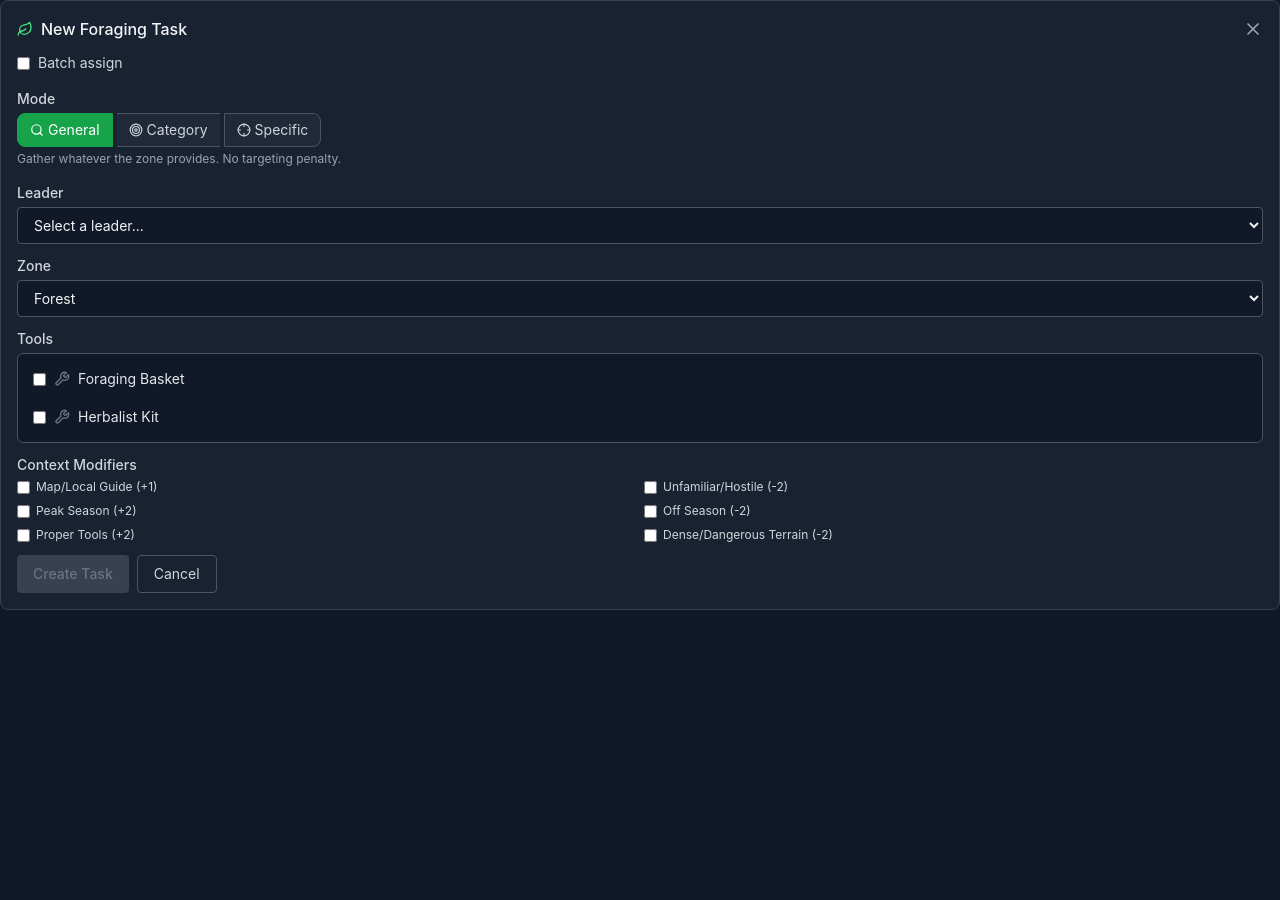
Test: ForagingTaskForm › mode switching › resets target fields when switching modes
Note: Switch to category, select a category
Click the button with test id "mode-category" at (168, 130), box [117,113,220,147]
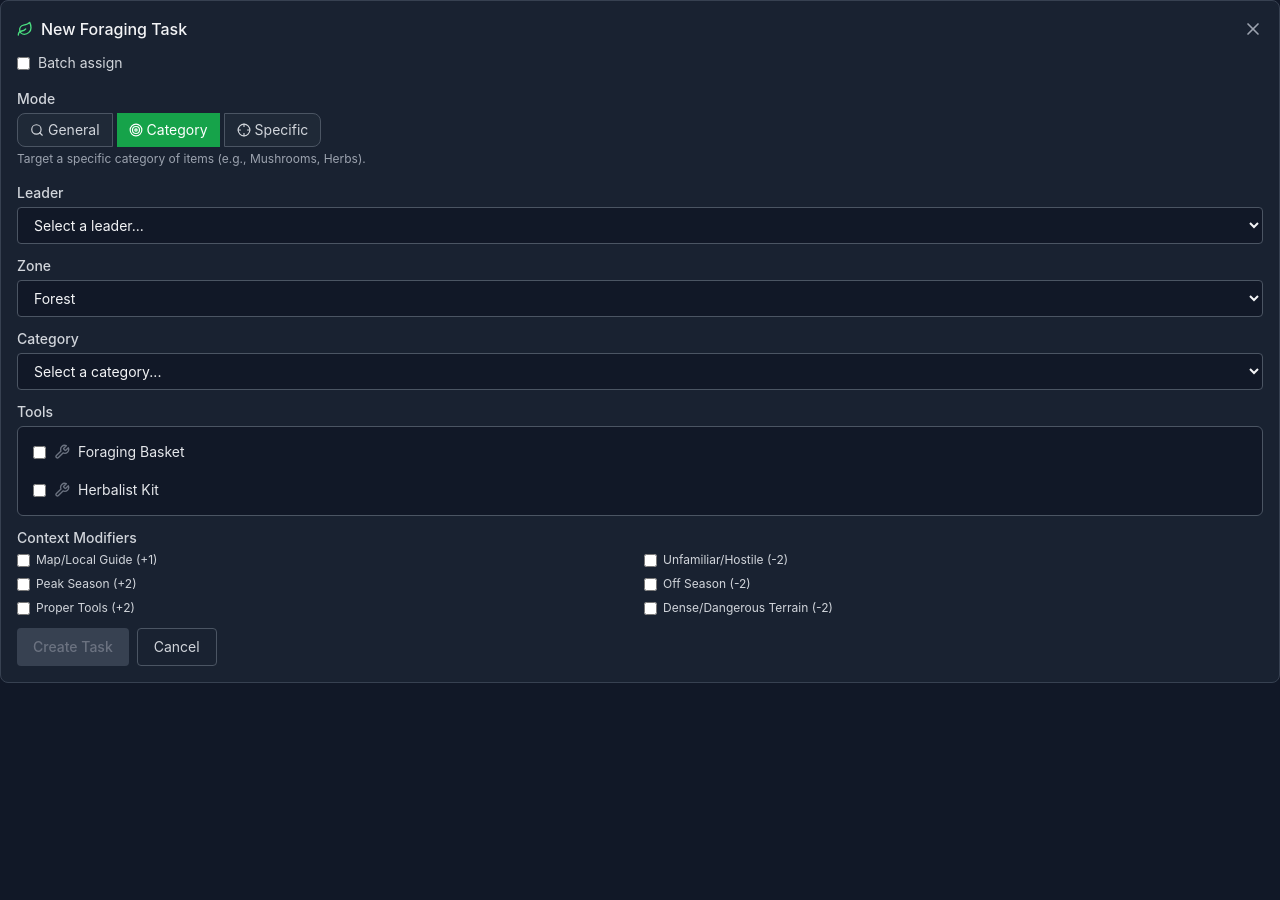
Select "Mushrooms" in the dropdown with test id "category-select" at (640, 372), box [17,353,1263,390]
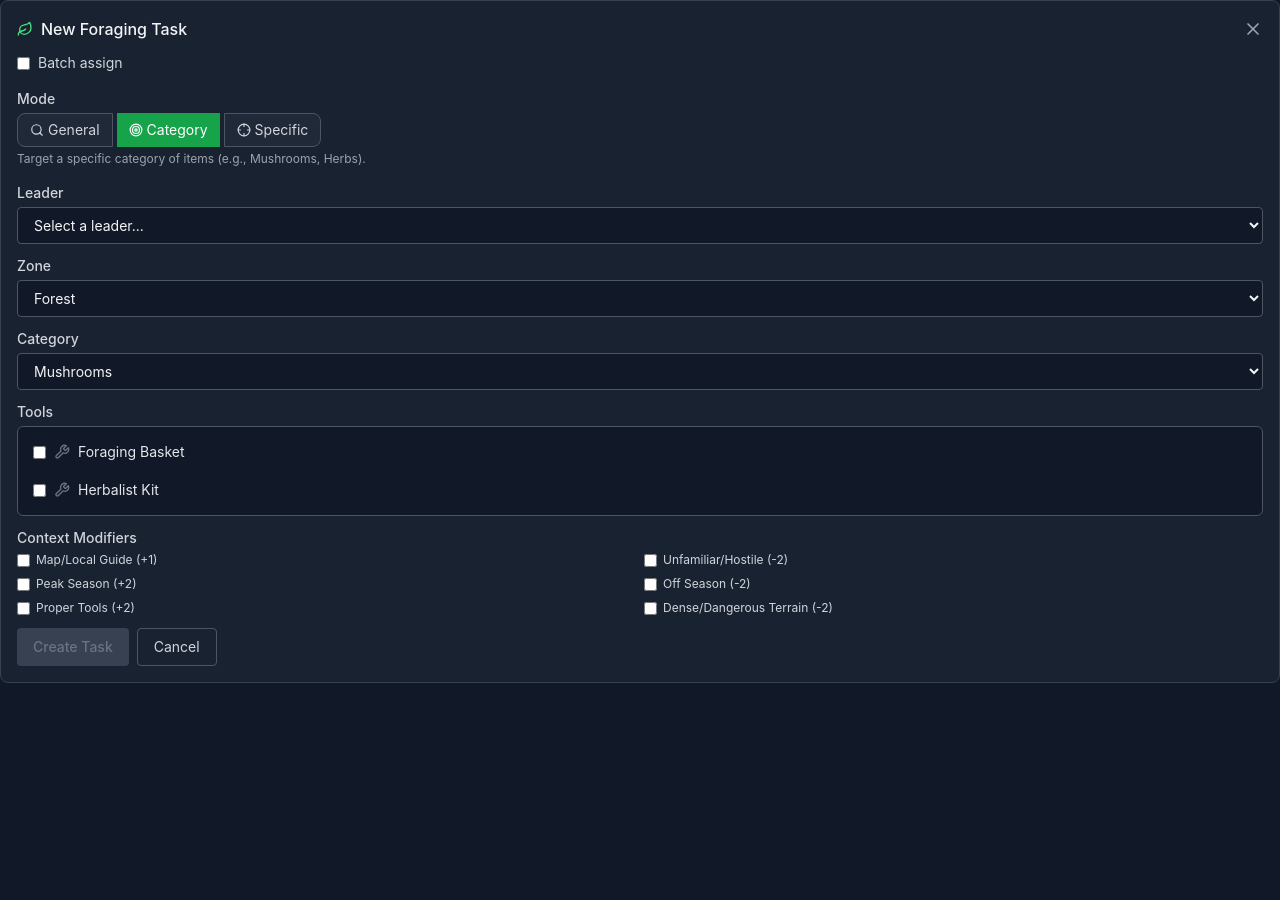
Note: Switch to general - category should be cleared
Click the button with test id "mode-general" at (65, 130), box [17,113,113,147]
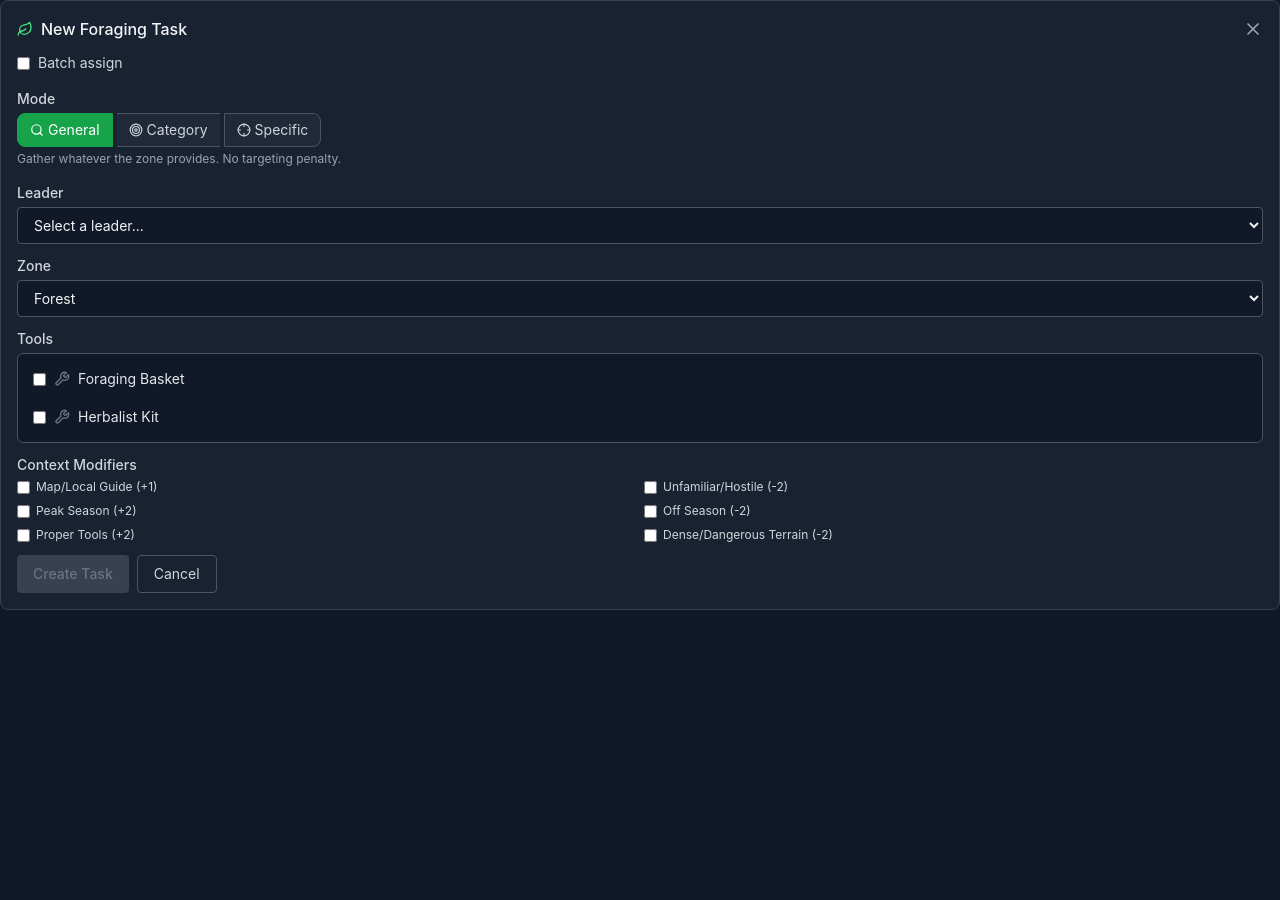
Check: the label with test id "category-select" is gone
